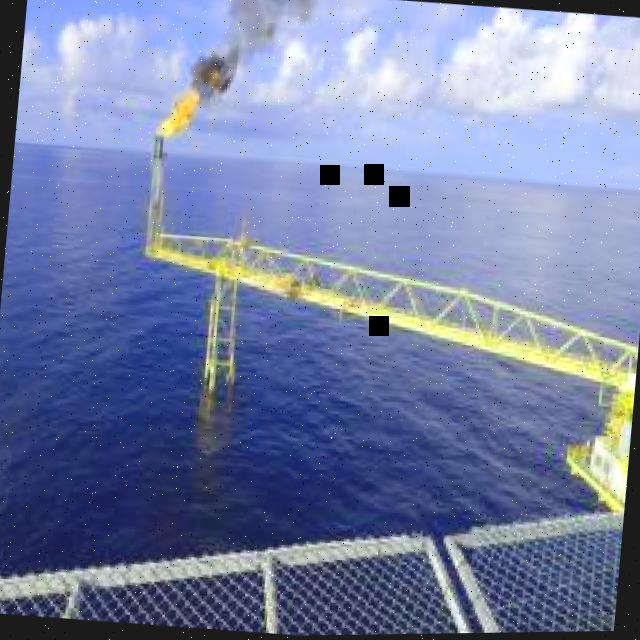fire: (156, 91, 200, 137), (211, 71, 218, 86)
smoke: (190, 0, 318, 109)
